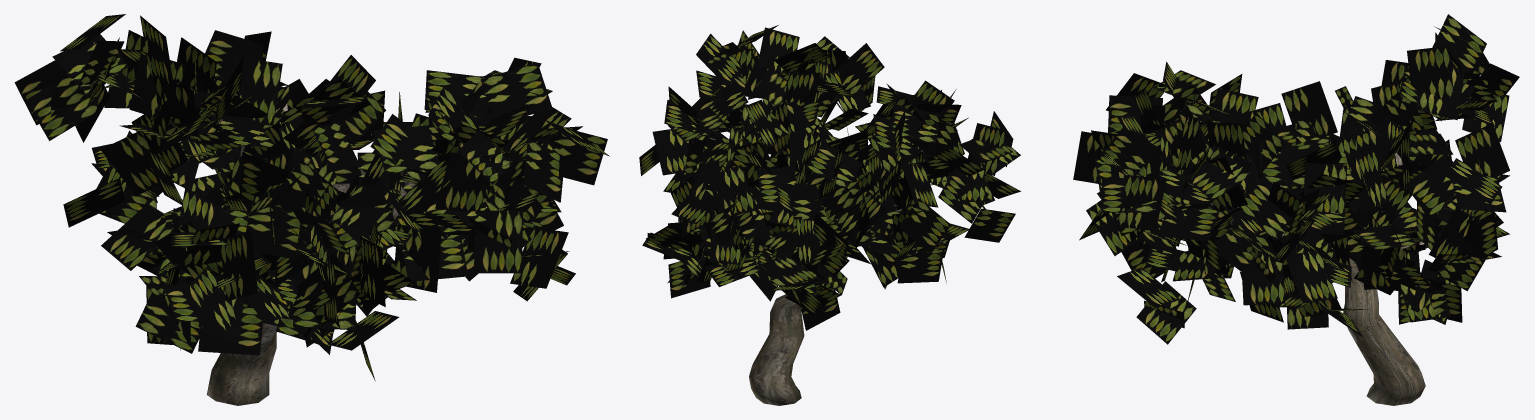
Rendered from tree-broad-04-lod1.glb.
3 views of the same model, side by side, from view 1: azimuth 30°, elevation 25°; view 2: azimuth 150°, elevation 25°; view 3: azimuth 270°, elevation 25° (orthographic). The views are drawn at different scales.
Visible parts, largest first — view 1: tree-broad-04_MATERIAL_BATCH; view 2: tree-broad-04_MATERIAL_BATCH; view 3: tree-broad-04_MATERIAL_BATCH.
Part boxes in pixels (x1=…): tree-broad-04_MATERIAL_BATCH: x1=14, y1=14, x2=609, y2=405; tree-broad-04_MATERIAL_BATCH: x1=639, y1=25, x2=1020, y2=405; tree-broad-04_MATERIAL_BATCH: x1=1073, y1=14, x2=1519, y2=405.
Size of the model in its own units: 13.28 by 10.9 by 13.38.
Materials: 3 (3 with a texture image).
